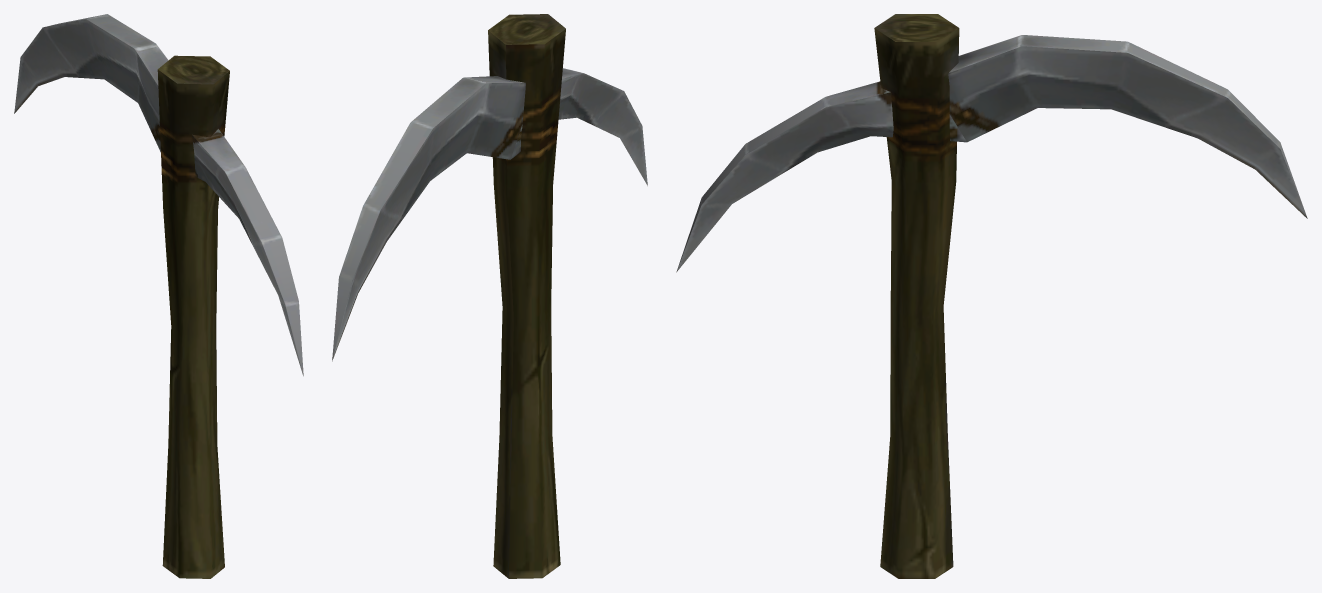
File: mon_axe_troll_7c0072bb.glb
The picture shows the model from 3 angles, left to right: view 1: azimuth 30°, elevation 25°; view 2: azimuth 150°, elevation 25°; view 3: azimuth 270°, elevation 25°; orthographic projection. The views are drawn at different scales.
Size of the model in its own units: 0.3029 by 2.72 by 2.89.
Materials: 1 (1 with a texture image).
